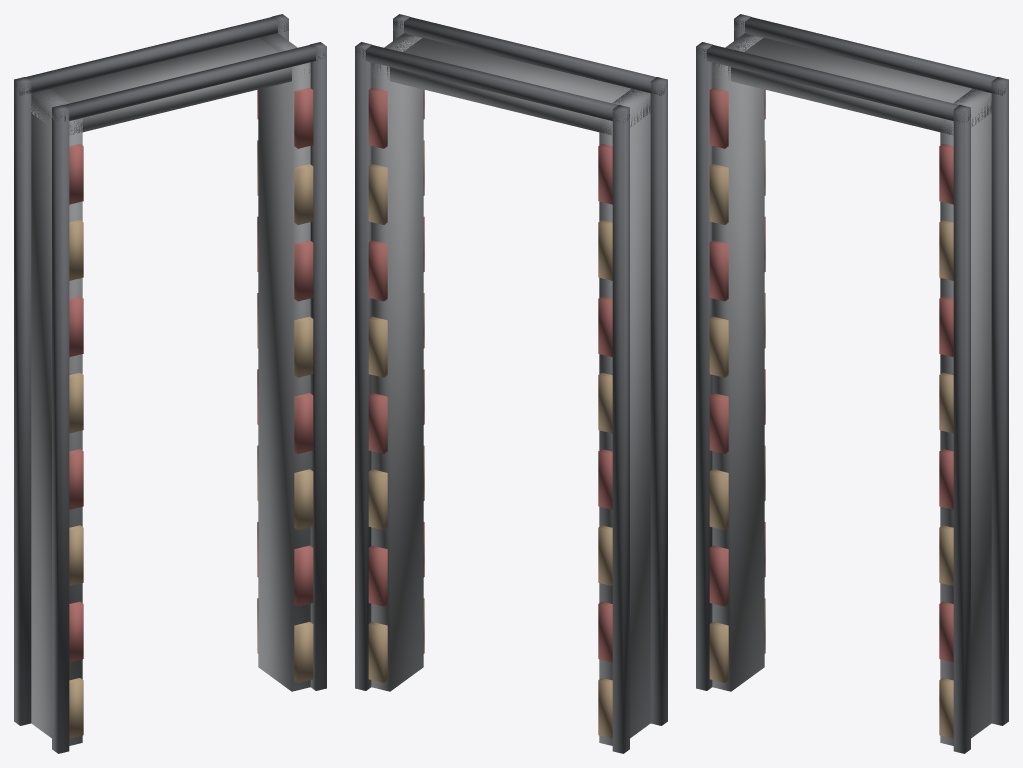
File: doorway_brick_return_w86_h240_d24.glb
3 renders of one model, left to right at view 1: azimuth 30°, elevation 25°; view 2: azimuth 150°, elevation 25°; view 3: azimuth 330°, elevation 25°, orthographic.
Visible parts, largest first — view 1: world; view 2: world; view 3: world.
Part boxes in pixels (<box>): world: <box>14,14,326,753</box>; world: <box>355,14,667,753</box>; world: <box>696,14,1008,753</box>.
Bounding box in the file's own units: 1.1 × 2.52 × 0.3165.
